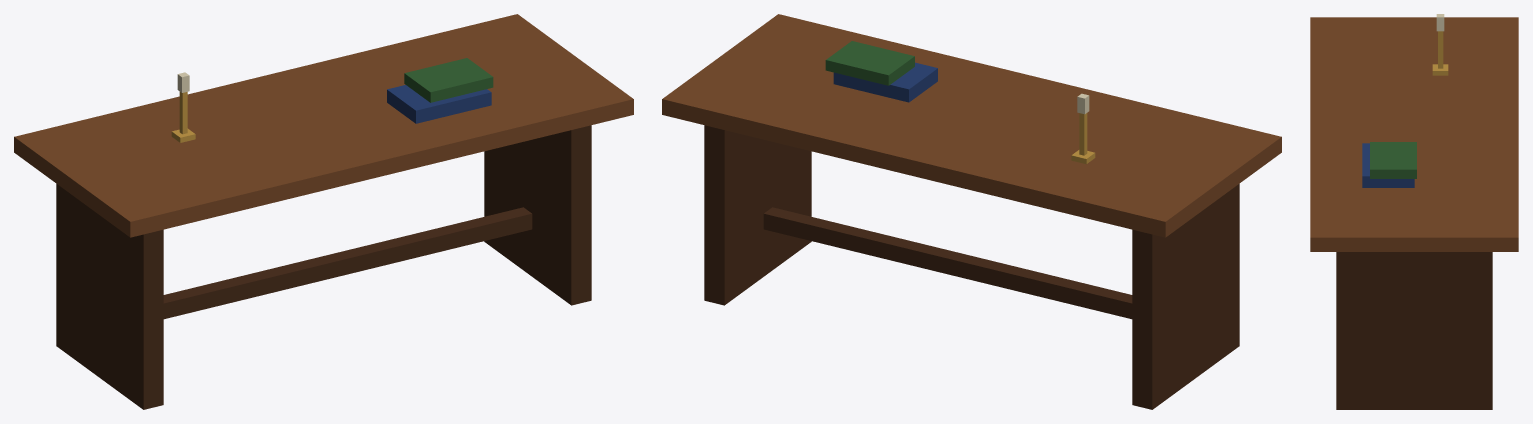
Rendered from table.obj.
3 renders of one model, left to right at view 1: azimuth 30°, elevation 25°; view 2: azimuth 150°, elevation 25°; view 3: azimuth 270°, elevation 25°, orthographic. The views are drawn at different scales.
Visible parts, largest first — view 1: Cube, Cube.001, Cube.002, Cube.003, Cube.008, Cube.007; view 2: Cube, Cube.001, Cube.002, Cube.003, Cube.008, Cube.007; view 3: Cube, Cube.002, Cube.008, Cube.007, Cube.005.
Part boxes in pixels (left/top/right/bottom): Cube: left=14, top=14, right=633, bottom=237; Cube.001: left=56, top=184, right=163, bottom=409; Cube.002: left=484, top=125, right=591, bottom=305; Cube.003: left=163, top=207, right=532, bottom=319; Cube.008: left=404, top=58, right=493, bottom=102; Cube.007: left=387, top=85, right=491, bottom=123; Cube: left=662, top=14, right=1281, bottom=237; Cube.001: left=1132, top=184, right=1239, bottom=409; Cube.002: left=704, top=125, right=811, bottom=305; Cube.003: left=763, top=207, right=1132, bottom=319; Cube.008: left=825, top=41, right=914, bottom=85; Cube.007: left=833, top=62, right=937, bottom=102; Cube: left=1310, top=17, right=1518, bottom=251; Cube.002: left=1336, top=252, right=1492, bottom=409; Cube.008: left=1370, top=142, right=1416, bottom=178; Cube.007: left=1362, top=143, right=1414, bottom=187; Cube.005: left=1438, top=31, right=1443, bottom=68.
Bounding box in the file's own units: 2 × 1.02 × 0.8.
